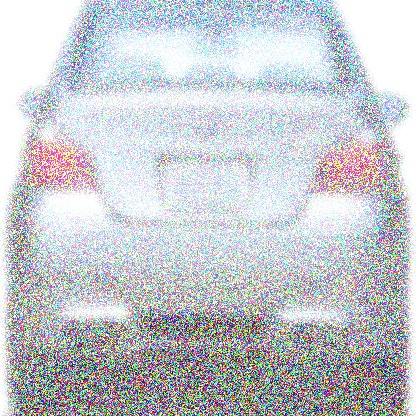Vehicle: (4, 2, 416, 414)
